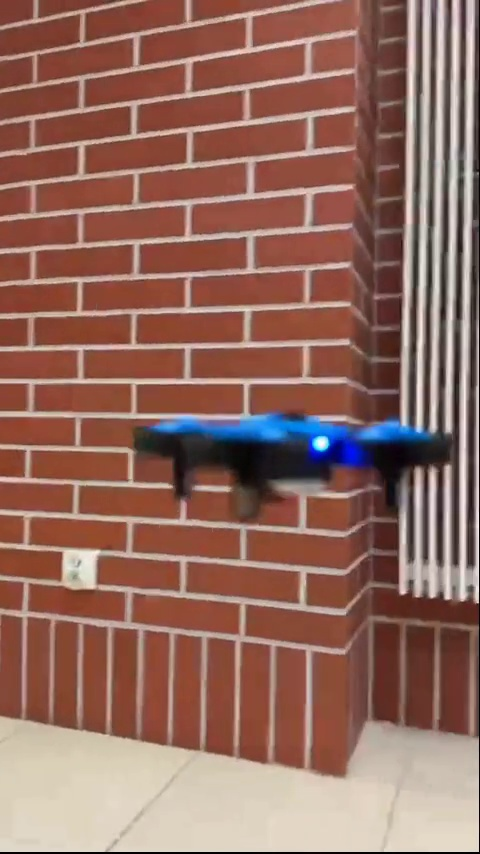drone: (138, 409, 459, 515)
